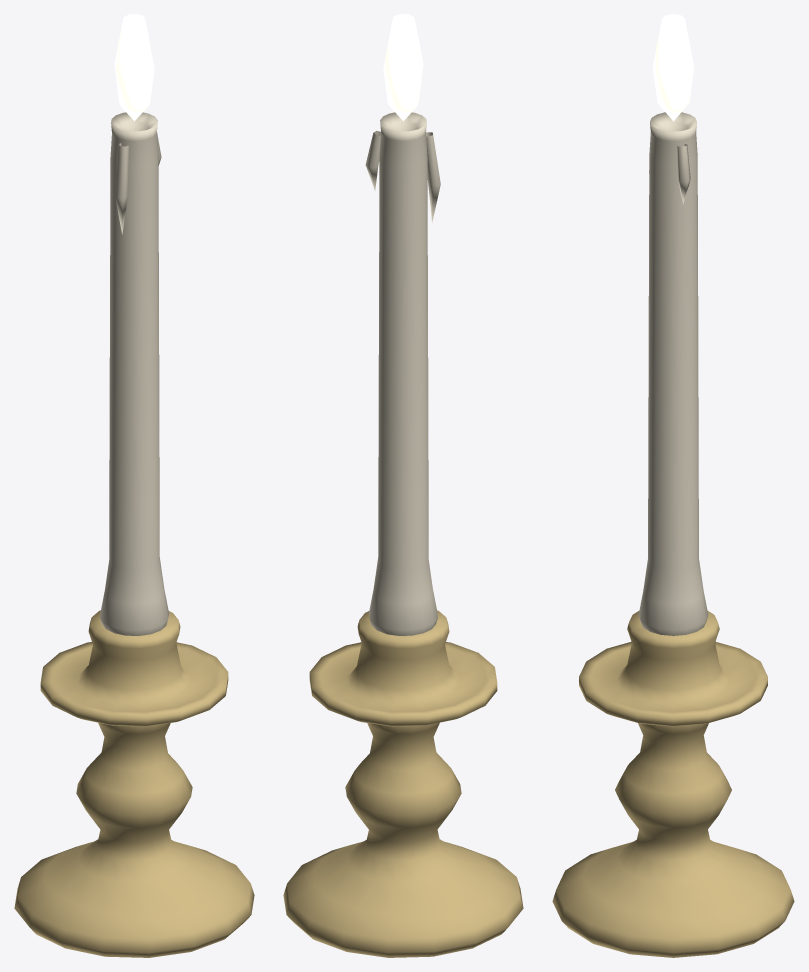
Rendered from Candlestick.fbx.
3 views of the same model, side by side, from view 1: azimuth 30°, elevation 25°; view 2: azimuth 150°, elevation 25°; view 3: azimuth 270°, elevation 25° (orthographic).
Parts seen in each view (by area): view 1: Candlestick, Flame_0; view 2: Candlestick, Flame_0; view 3: Candlestick, Flame_0.
Boxes of the visible parts, x1,y1,x2,y2 form: Candlestick: [14, 112, 254, 957]; Flame_0: [114, 14, 154, 121]; Candlestick: [283, 112, 523, 957]; Flame_0: [383, 14, 423, 121]; Candlestick: [552, 112, 794, 957]; Flame_0: [652, 14, 694, 121].
Bounding box in the file's own units: 0.128 × 0.52 × 0.128.
